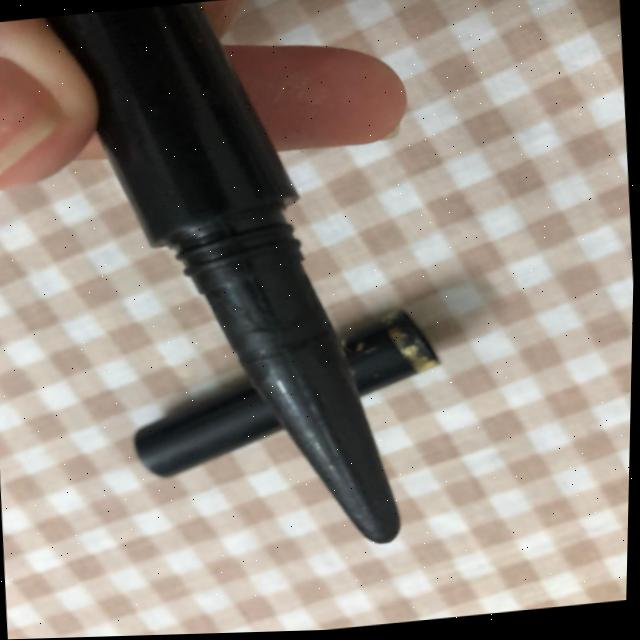kajal: (133, 185, 442, 571)
